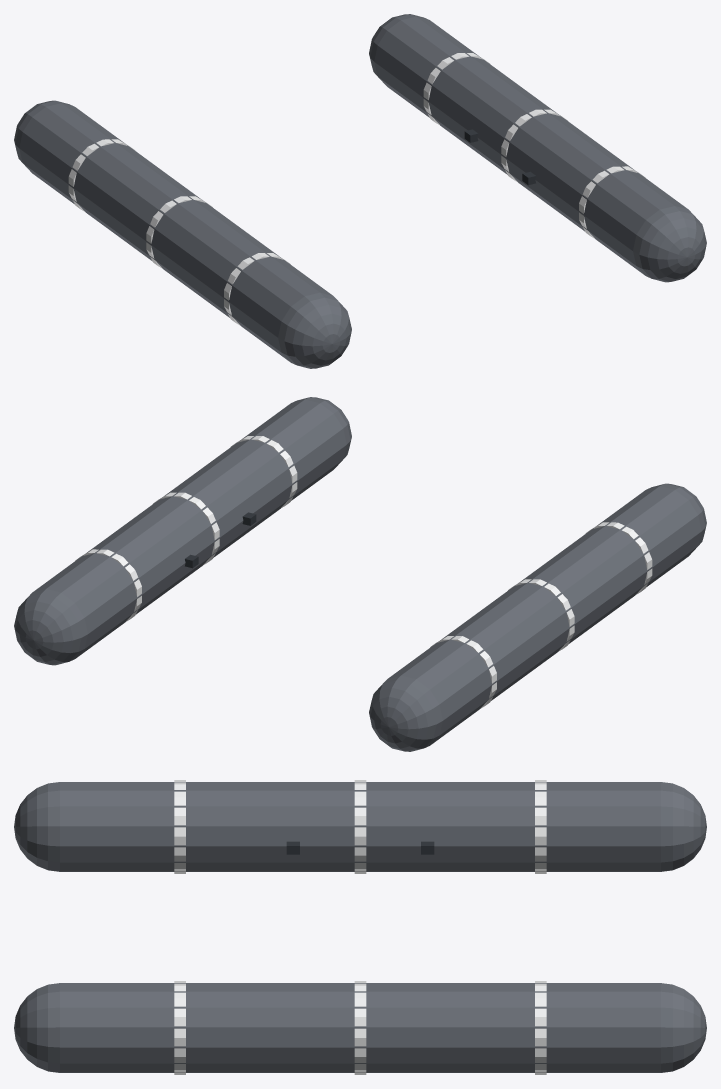
File: brute_500.glb
3 renders of one model, top to bottom at view 1: azimuth 30°, elevation 25°; view 2: azimuth 150°, elevation 25°; view 3: azimuth 270°, elevation 25°, orthographic. The views are drawn at different scales.
Parts seen in each view (by area): view 1: model; view 2: model; view 3: model.
Boxes of the visible parts, x1,y1,x2,y2 form: model: (14,14,706,368); model: (14,397,706,751); model: (14,780,706,1074).
Bounding box in the file's own units: 2.96 × 0.4894 × 3.61.
Materials: 1 (1 with a texture image).
